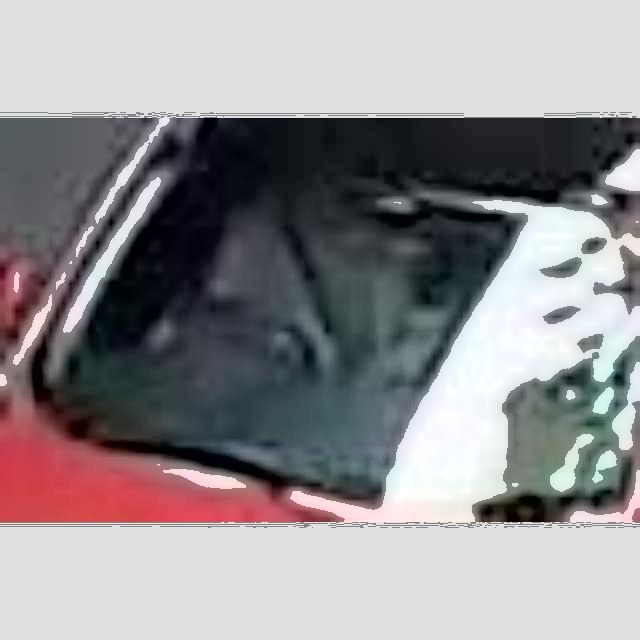pakai: (216, 158, 424, 387)
